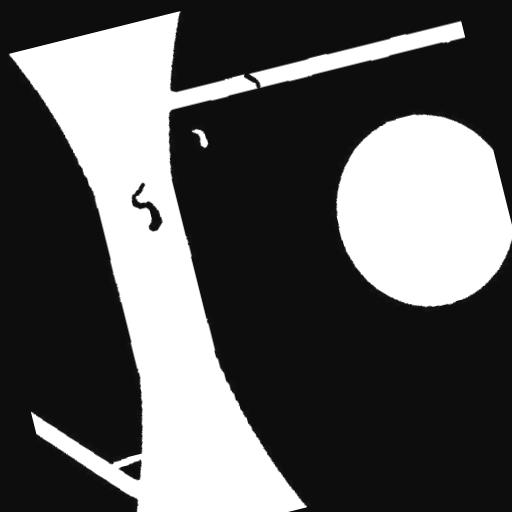copper: (118, 170, 174, 244)
open: (100, 444, 154, 480)
pin-hole: (182, 118, 218, 158)
short: (234, 61, 270, 100)
